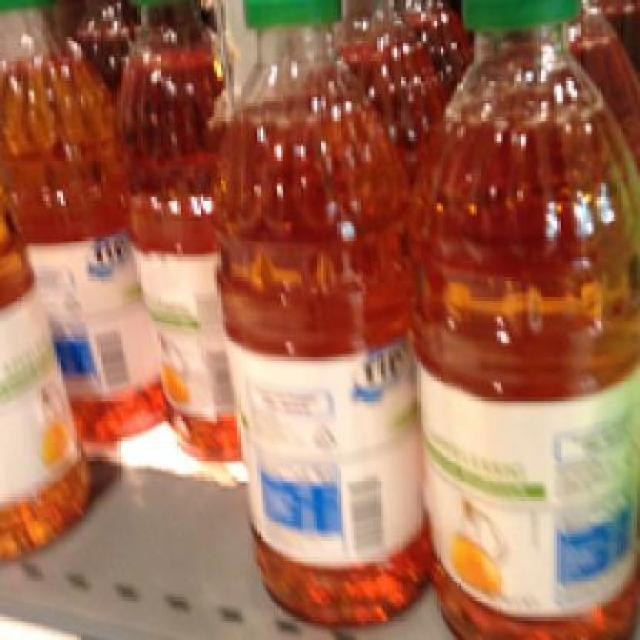Vinegar: (213, 0, 426, 635), (430, 0, 629, 635), (3, 0, 163, 443), (107, 0, 255, 472)
